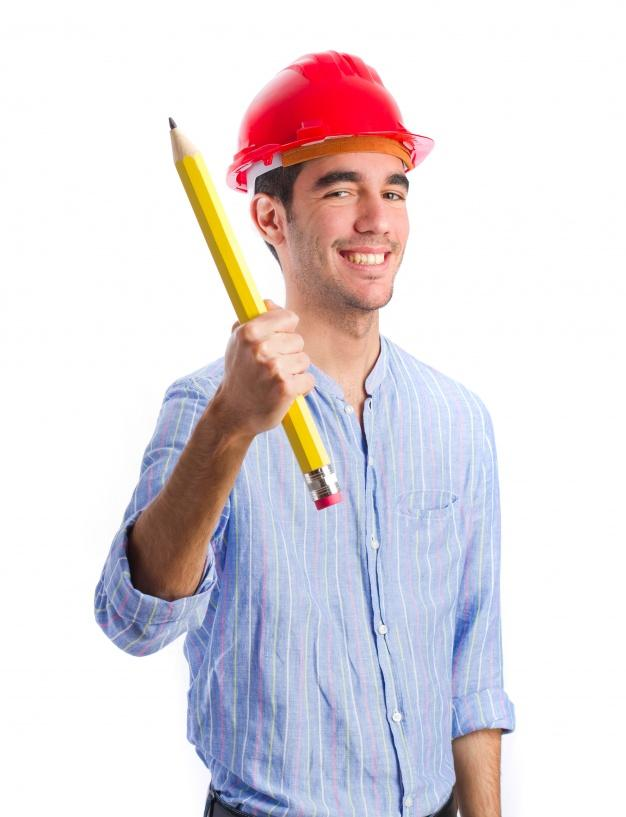helmet: (221, 51, 440, 203)
